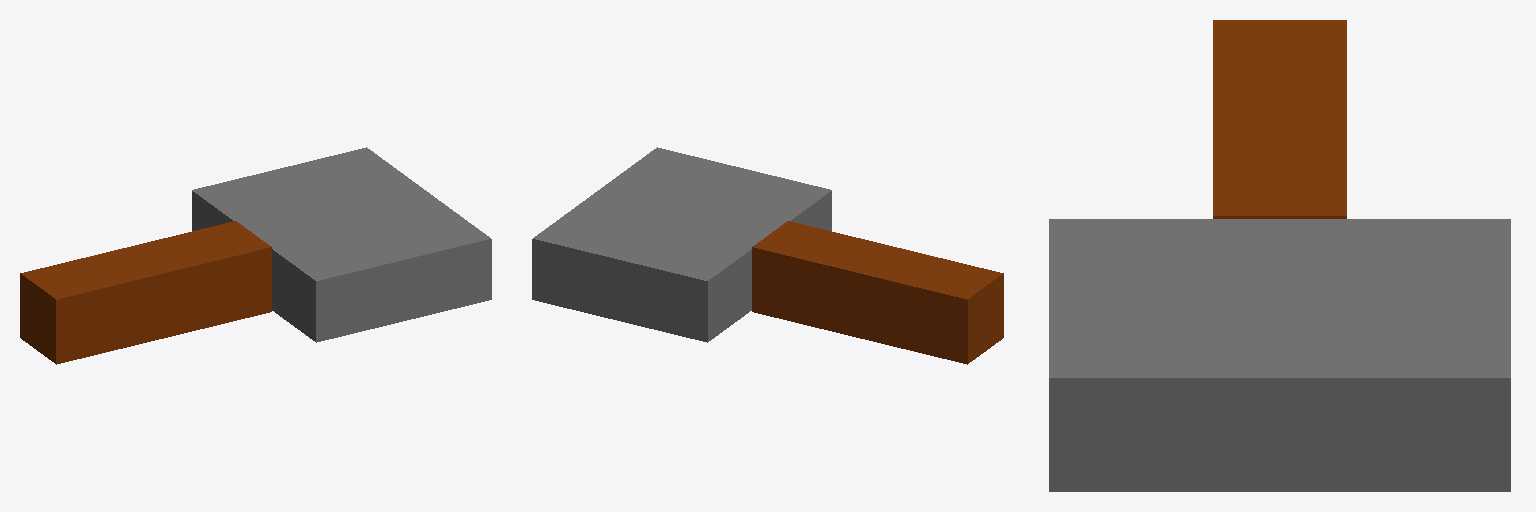
robot.urdf — handle_head:
<?xml version="1.0"?>
<robot name="handle_head">

  <link name="handle_head">
    <!-- Handle -->
    <visual>
              <origin xyz="0 0 0" rpy="0 0 0"/>
        <geometry>
          <box size="0.1016888153683311 0.02939660487477779 0.0292873514816857"/>
        </geometry>
        
      <material name="brown">
        <color rgba="0.55 0.27 0.07 1.0"/>
      </material>
    </visual>
    <collision>
              <origin xyz="0 0 0" rpy="0 0 0"/>
        <geometry>
          <box size="0.1016888153683311 0.02939660487477779 0.0292873514816857"/>
        </geometry>
        
    </collision>

    <!-- Head -->
    <visual>
              <origin xyz="0.09221579736590785 0 0" rpy="0 0 0"/>
        <geometry>
          <box size="0.0827427793634846 0.10191752873713536 0.027667755721976484"/>
        </geometry>
        
      <material name="gray">
        <color rgba="0.5 0.5 0.5 1.0"/>
      </material>
    </visual>
    <collision>
              <origin xyz="0.09221579736590785 0 0" rpy="0 0 0"/>
        <geometry>
          <box size="0.0827427793634846 0.10191752873713536 0.027667755721976484"/>
        </geometry>
        
    </collision>

    <inertial>
      <origin xyz="0.060909317993313096 0 0" rpy="0 0 0"/>
      <mass value="0.15363044964021202"/>
      <inertia ixx="0.00010179321084978706" iyy="0.00040599063001715244" izz="0.0004873811834033101" ixy="0" ixz="0" iyz="0"/>
    </inertial>
  </link>

</robot>

--- Render facts (derived) ---
The picture shows the robot from 3 angles, left to right: view 1: azimuth 30°, elevation 25°; view 2: azimuth 150°, elevation 25°; view 3: azimuth 270°, elevation 25°; orthographic projection.
Robot: handle_head — 1 links, 0 joints (none); root link handle_head; default pose: every joint at zero.
Visible links, largest first — view 1: handle_head; view 2: handle_head; view 3: handle_head.
Boxes of the visible links, x1=… form: handle_head: x1=20, y1=147, x2=491, y2=364; handle_head: x1=532, y1=147, x2=1003, y2=364; handle_head: x1=1049, y1=20, x2=1510, y2=491.
Size in the robot's own frame: 0.1844 by 0.1019 by 0.0293 metres.
Geometry: primitives only (box / cylinder / sphere), no mesh files.
